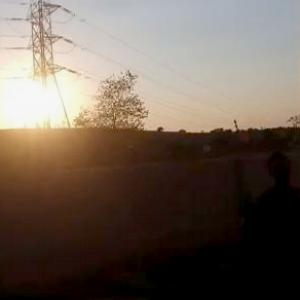follow: (251, 148, 300, 299)
